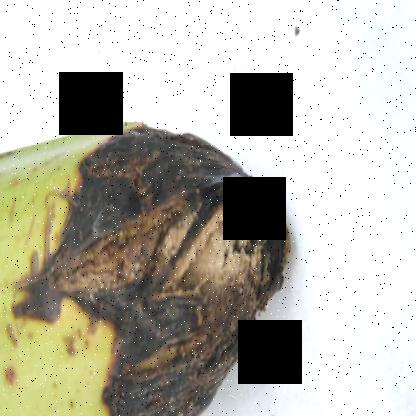rotten: (48, 95, 308, 415)
unripe: (0, 120, 44, 415)
